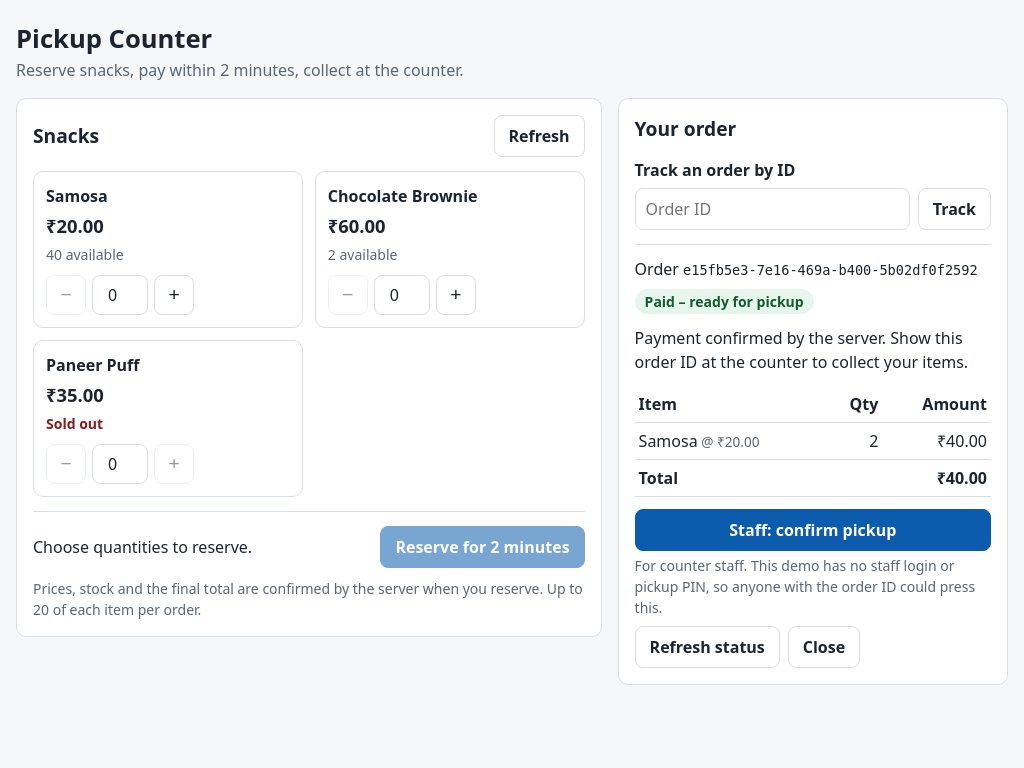
Test: pickup collection › confirms collection only after the server does, then refreshes order and stock
The image size is (1024, 768).
Click the button "Staff: confirm pickup". click: click(813, 530)
box: [635, 509, 991, 551]
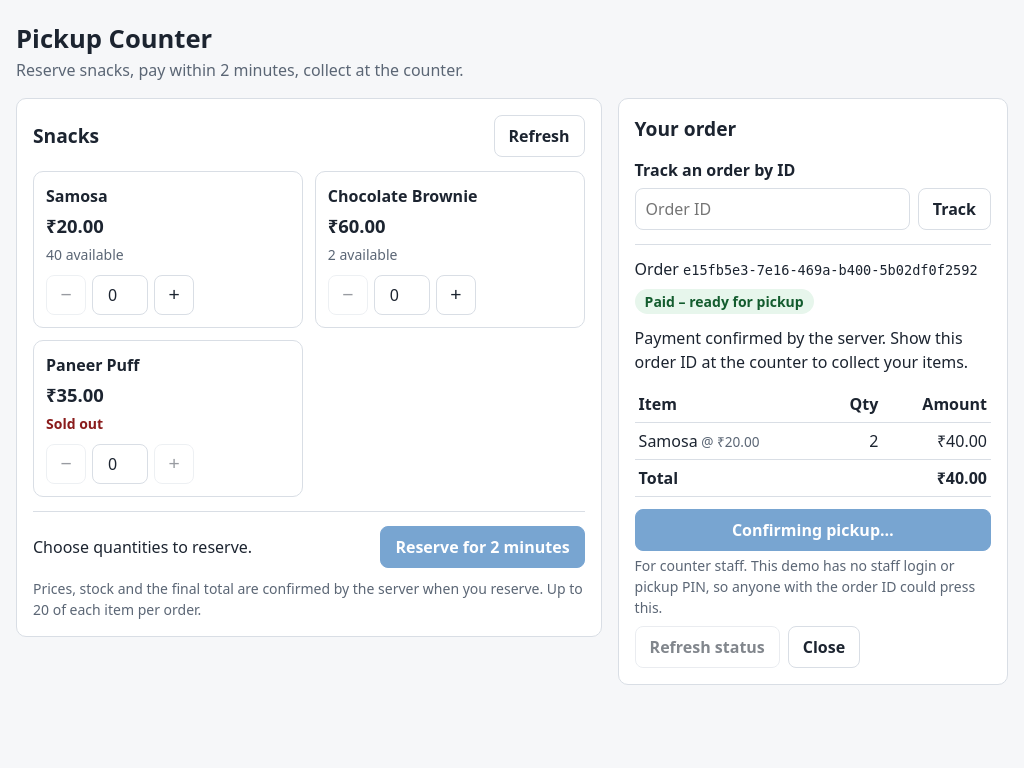
expect the button "Confirming pickup…" is disabled: met
Click the button "Confirming pickup…". click: click(813, 530)
box: [635, 509, 991, 551]
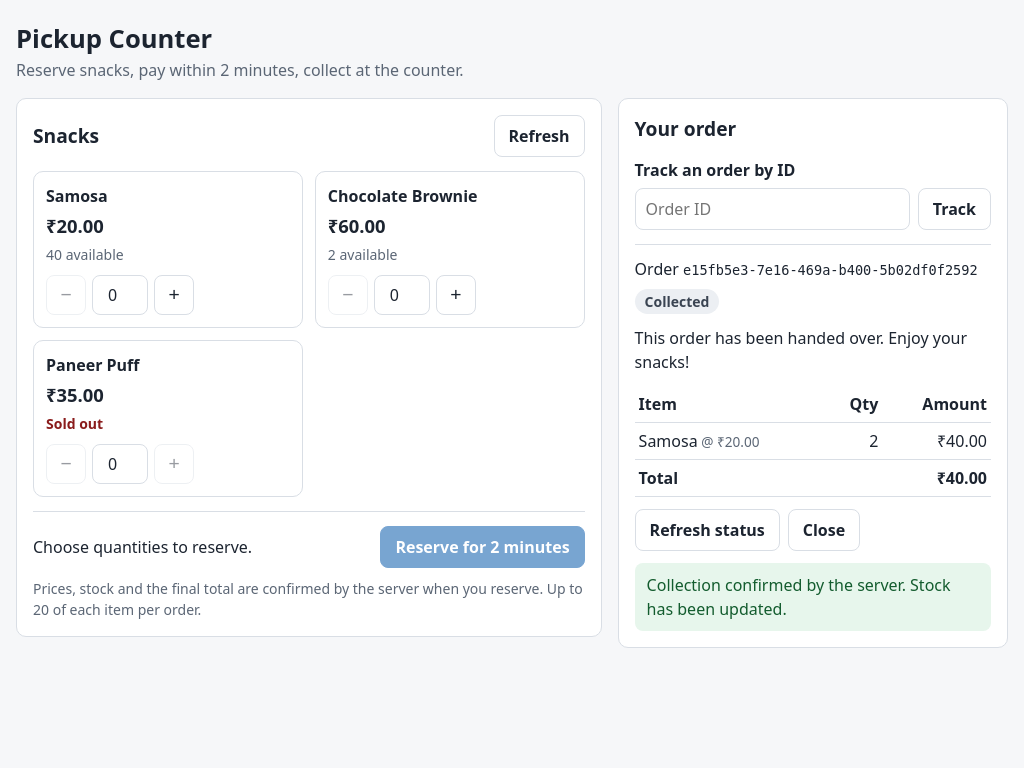
expect the message shows "Collection confirmed by the server.": met, box [647, 574, 951, 620]
expect the text with id "order-status" reads "Collected": met, box [645, 292, 709, 311]
